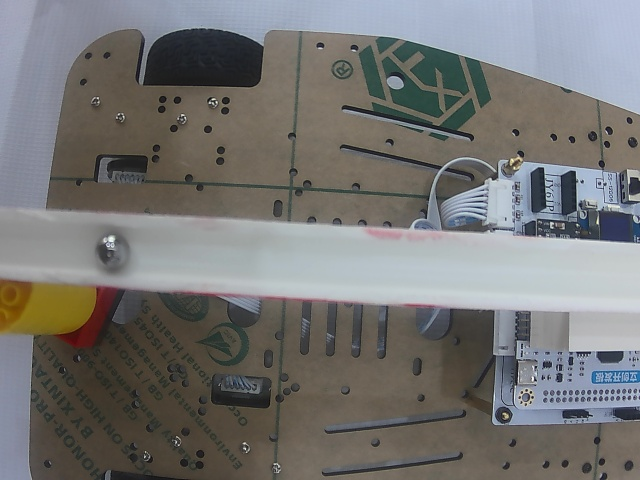steelball: (95, 233, 130, 270)
